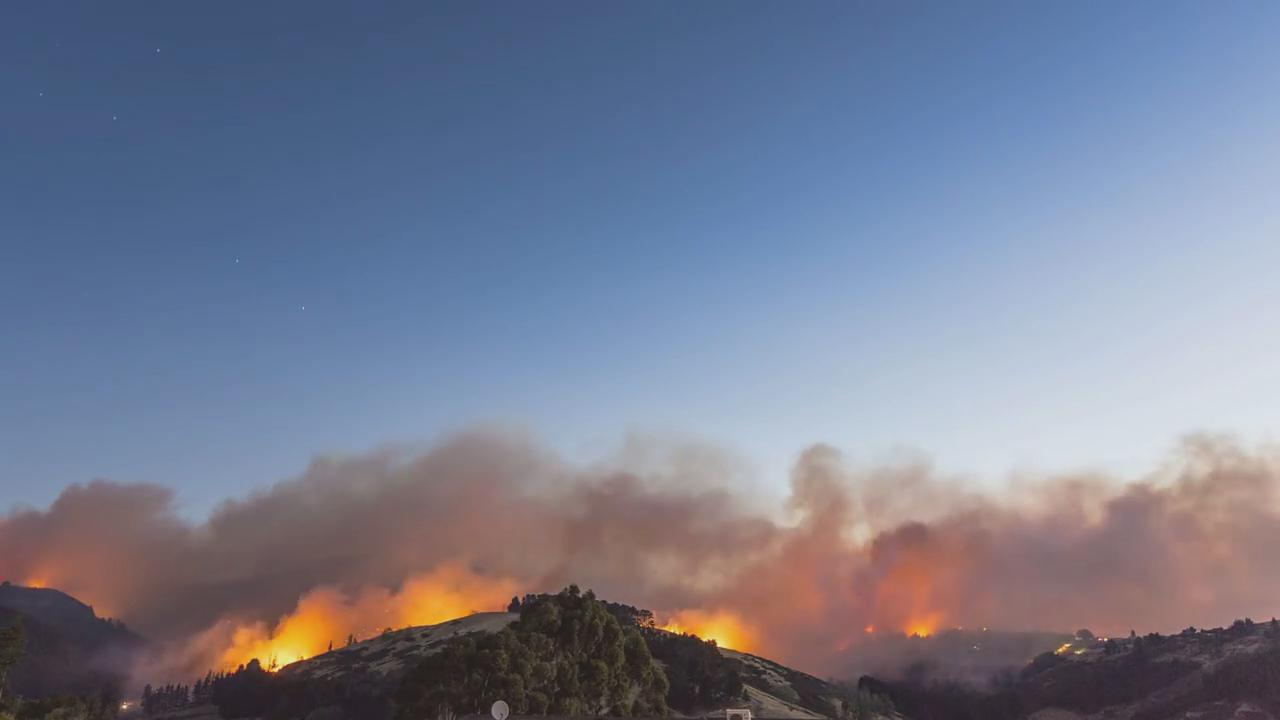fire: (403, 583, 505, 626), (656, 614, 749, 652), (255, 639, 318, 673), (905, 622, 934, 639), (23, 575, 47, 590), (1055, 640, 1075, 653)
